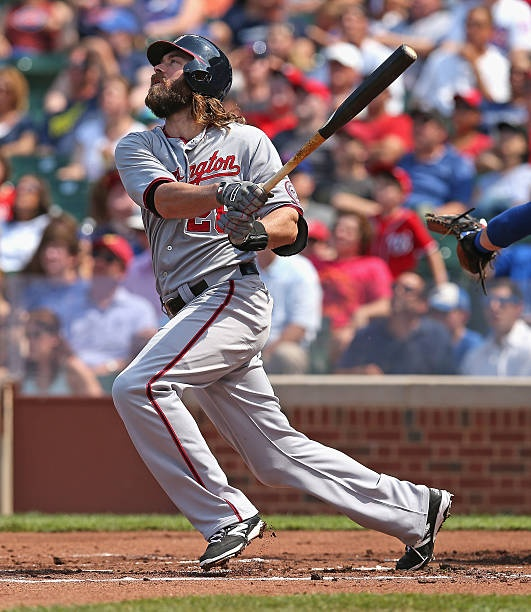bita: (258, 48, 416, 199)
